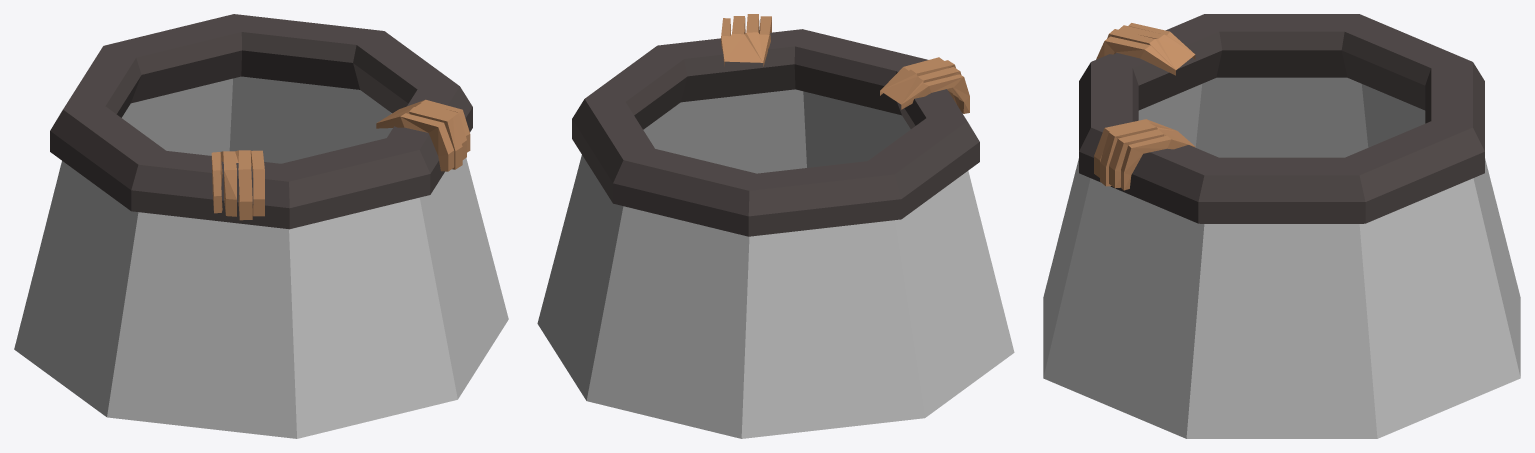
Rendered from model_135_npc_head.obj.
3 renders of one model, left to right at view 1: azimuth 30°, elevation 25°; view 2: azimuth 150°, elevation 25°; view 3: azimuth 270°, elevation 25°, orthographic. The views are drawn at different scales.
Visible parts, largest first — view 1: 135; view 2: 135; view 3: 135.
Part boxes in pixels (box(x1,y1,x2,y2)): 135: box(14, 14, 508, 438); 135: box(537, 14, 1014, 438); 135: box(1043, 14, 1520, 438).
Bounding box in the file's own units: 320 × 190 × 320.
